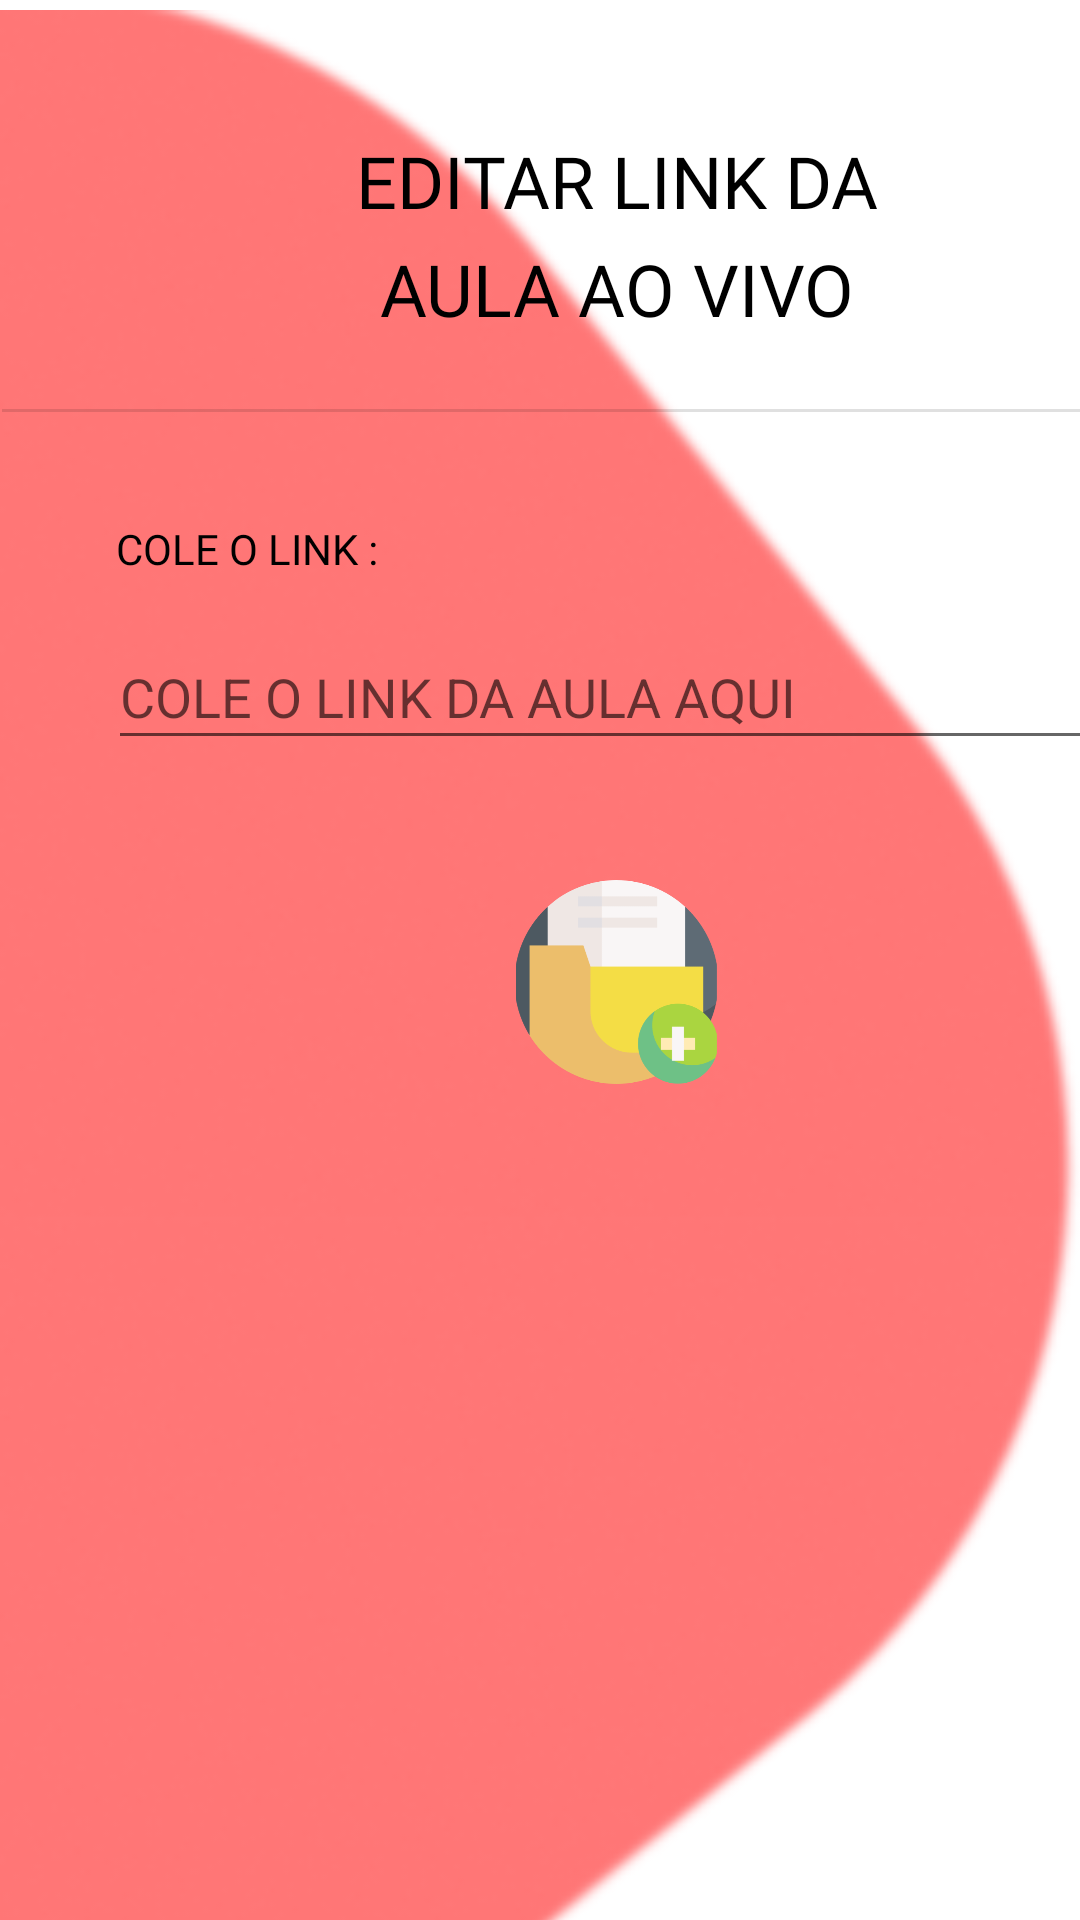

Screen size 1080*1920. Icon name, then its center in pixels as [x,y]:
update arquivos: [616,982]
